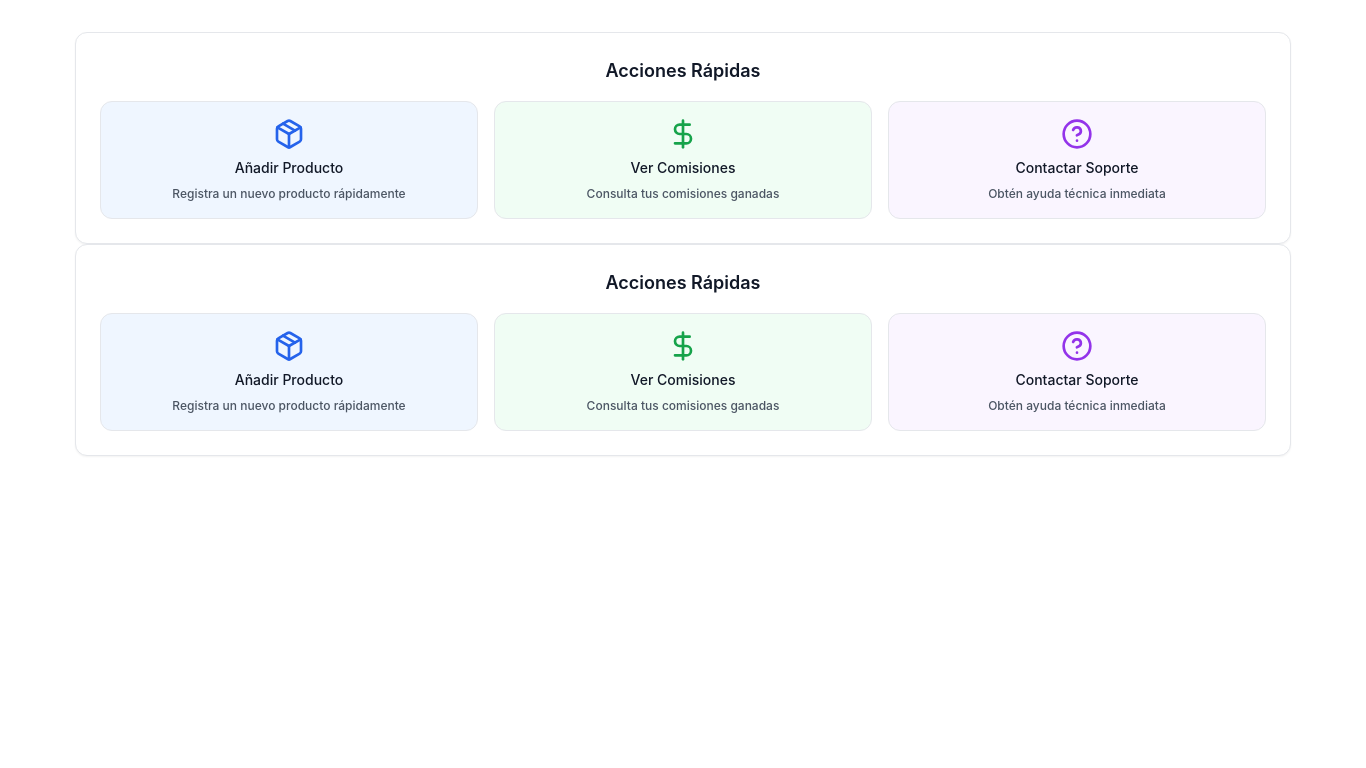
it: QuickActions Integration › maintains independent state for multiple instances
Abrir modal en primera instancia
Click the 1st heading "Añadir Producto": (289, 168) [235, 158, 343, 178]
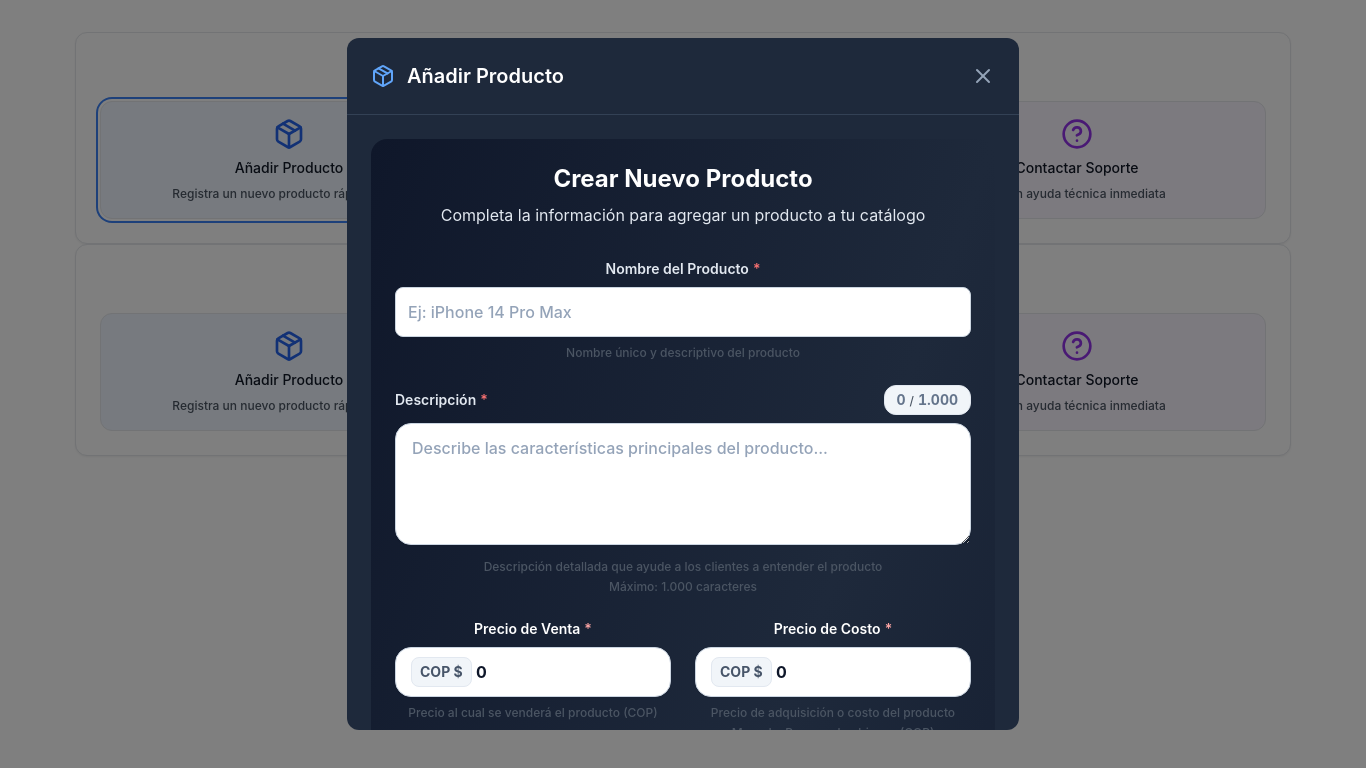
Expected: the number of headings "Añadir Producto" is 1, [407, 62, 564, 90]
